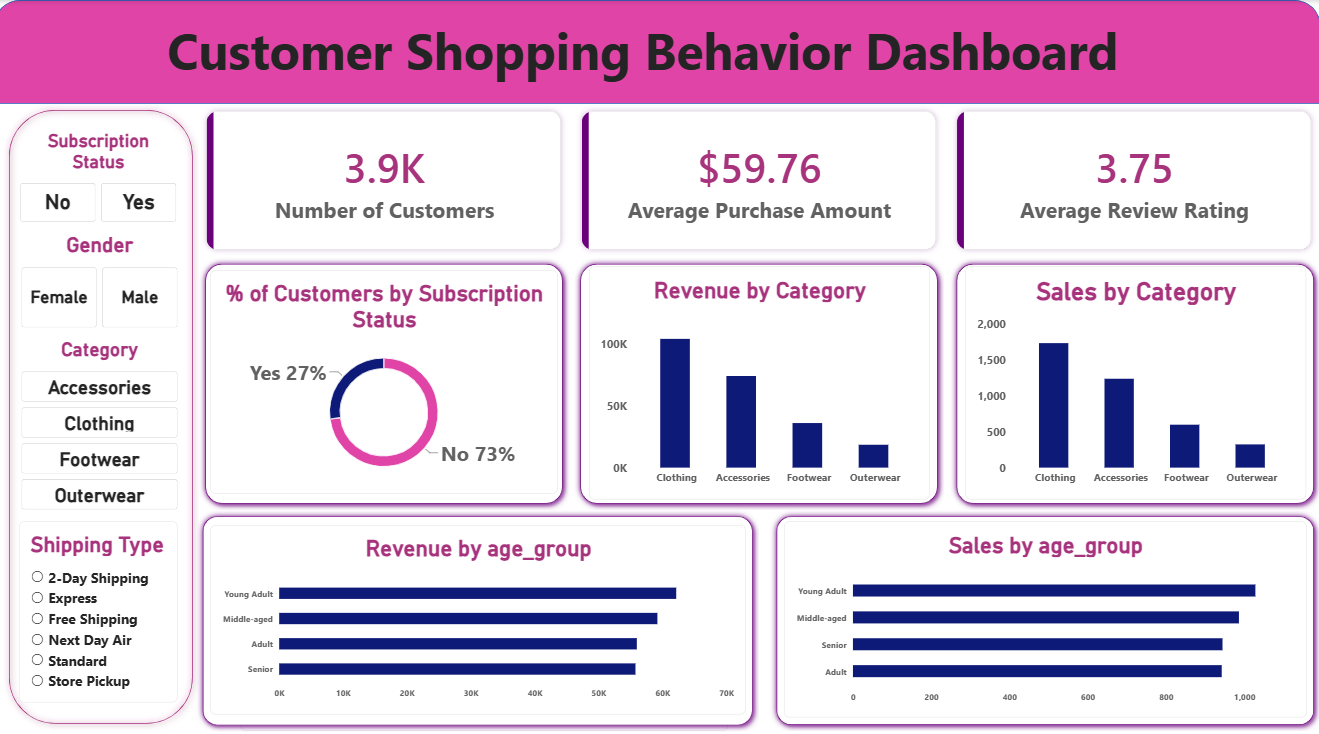

Layout of this report page (visuals, bound fields, positions):
{"tool":"powerbi","page":{"name":"Page 1","canvas":[1920,1080],"ordinal":0},"visuals":[{"type":"cardVisual","fields":{"Data":["customer_behaviour customer.Number of Customers","customer_behaviour customer.Average Purchase Amount","customer_behaviour customer.Average Review Rating"]},"box":[296.8,150.2,1623.3,222.6],"z":0},{"type":"shape","box":[0,0,1920.4,150.3],"z":1000},{"type":"shape","box":[296.8,372.8,535.7,365.6],"z":3000},{"type":"donutChart","title":"% of Customers by Subscription Status","fields":{"Category":["customer_behaviour customer.subscription_status"],"Y":["CountNonNull(customer_behaviour customer.customer_id)"]},"box":[313.1,390.9,503.1,323.9],"z":4000},{"type":"shape","box":[840.6,372.8,535.7,365.6],"z":5000},{"type":"shape","box":[1384.3,372.8,535.7,365.6],"z":6000},{"type":"clusteredColumnChart","title":"Revenue by Category","fields":{"Category":["customer_behaviour customer.category"],"Y":["Sum(customer_behaviour customer.purchase_amount)"]},"box":[861.4,385.5,493.8,337.3],"z":7000},{"type":"clusteredColumnChart","title":"Sales by Category","fields":{"Category":["customer_behaviour customer.category"],"Y":["CountNonNull(customer_behaviour customer.customer_id)"]},"box":[1406.3,386.1,493.8,337.3],"z":8000},{"type":"shape","box":[12.7,150.2,284.1,906.6],"z":9000},{"type":"advancedSlicerVisual","title":"Subscription Status","fields":{"Values":["customer_behaviour customer.subscription_status"]},"box":[38,188.2,226.6,133.6],"z":10000},{"type":"advancedSlicerVisual","title":"Gender","fields":{"Values":["customer_behaviour customer.gender"]},"box":[39.8,336.6,226.6,137.6],"z":11000},{"type":"advancedSlicerVisual","title":"Category","fields":{"Values":["customer_behaviour customer.category"]},"box":[39.8,490.4,226.2,247.9],"z":12000},{"type":"listSlicer","title":"Shipping Type","fields":{"Values":["customer_behaviour customer.shipping_type"]},"box":[36.2,754.6,229.8,262.4],"z":13000},{"type":"clusteredBarChart","title":"Revenue by age_group","fields":{"Category":["customer_behaviour customer.age_group"],"Y":["Sum(customer_behaviour customer.purchase_amount)"]},"box":[357.3,783.6,706.5,274.1],"z":14000},{"type":"shape","box":[293.2,738.3,814,320.7],"z":15000},{"type":"shape","box":[1123.8,738.3,796.3,320.3],"z":16000},{"type":"clusteredBarChart","title":"Sales by age_group","fields":{"Category":["customer_behaviour customer.age_group"],"Y":["CountNonNull(customer_behaviour customer.customer_id)"]},"box":[1143.7,754.6,756.4,284.1],"z":17000},{"type":"clusteredBarChart","title":"Revenue by age_group","fields":{"Category":["customer_behaviour customer.age_group"],"Y":["Sum(customer_behaviour customer.purchase_amount)"]},"box":[313.1,760.1,775.5,274.1],"z":18000},{"type":"textbox","box":[12.7,23.5,1873,112.2],"z":18001}]}

Visuals, with their boxes in screenshot pixels (x1, y1, x2, y2), scaled from the page's 1920x1080 canvas onto the 1319x734 screenshot:
cardVisual - customer_behaviour customer.Number of Customers x customer_behaviour customer.Average Purchase Amount: BBox(204, 102, 1318, 253)
shape: BBox(0, 0, 1318, 102)
shape: BBox(204, 253, 572, 502)
"% of Customers by Subscription Status" donutChart: BBox(215, 266, 561, 486)
shape: BBox(577, 253, 945, 502)
shape: BBox(951, 253, 1318, 502)
"Revenue by Category" clusteredColumnChart: BBox(592, 262, 931, 491)
"Sales by Category" clusteredColumnChart: BBox(966, 262, 1305, 492)
shape: BBox(9, 102, 204, 718)
"Subscription Status" advancedSlicerVisual: BBox(26, 128, 182, 219)
"Gender" advancedSlicerVisual: BBox(27, 229, 183, 322)
"Category" advancedSlicerVisual: BBox(27, 333, 183, 502)
"Shipping Type" listSlicer: BBox(25, 513, 183, 691)
"Revenue by age_group" clusteredBarChart: BBox(245, 533, 731, 719)
shape: BBox(201, 502, 761, 720)
shape: BBox(772, 502, 1318, 719)
"Sales by age_group" clusteredBarChart: BBox(786, 513, 1305, 706)
"Revenue by age_group" clusteredBarChart: BBox(215, 517, 748, 703)
textbox: BBox(9, 16, 1295, 92)
